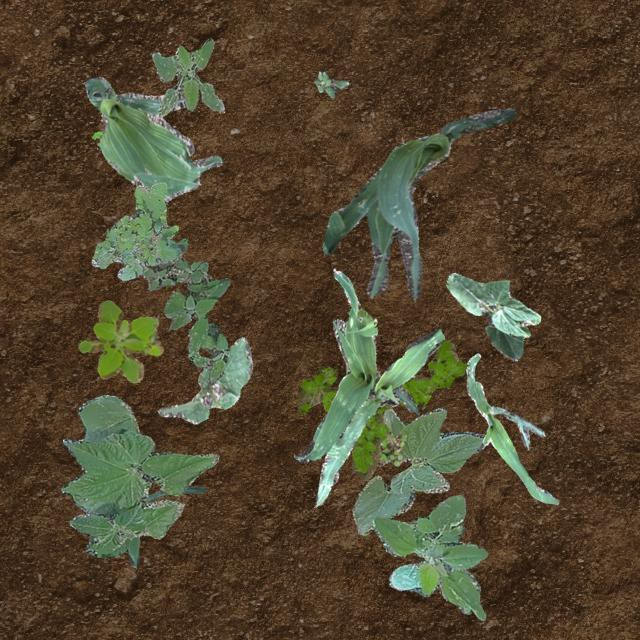crop: (320, 107, 514, 300), (59, 394, 218, 556), (296, 268, 418, 462), (314, 328, 444, 504), (352, 406, 484, 534), (84, 76, 220, 200), (372, 494, 487, 620), (464, 352, 558, 503), (88, 484, 204, 568), (444, 272, 540, 360), (156, 336, 252, 422)
weed: (296, 339, 468, 478), (140, 238, 228, 384), (90, 182, 184, 280), (77, 299, 162, 382), (152, 37, 222, 114), (376, 430, 406, 466), (312, 70, 348, 96), (90, 130, 102, 138)
